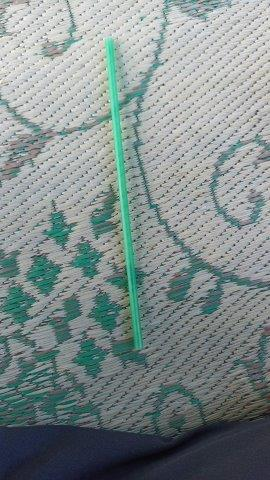sedotan: (105, 38, 143, 348)
